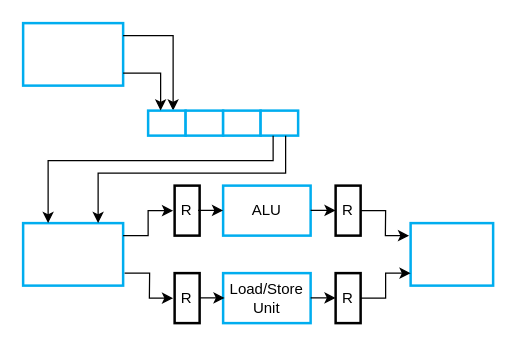
The diagram is 515 pixels wide and 345 high, and some of its shapes have lost their labels. Each missing label, with the box of its shape:
Dispatcher: (21, 221, 124, 286)
Fetch Unit: (21, 21, 124, 86)
Write back: (409, 221, 494, 286)
